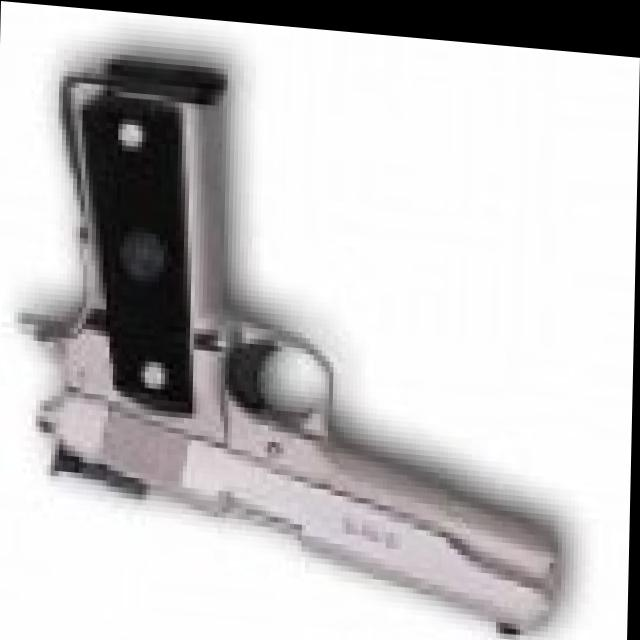handgun: (17, 44, 563, 640)
